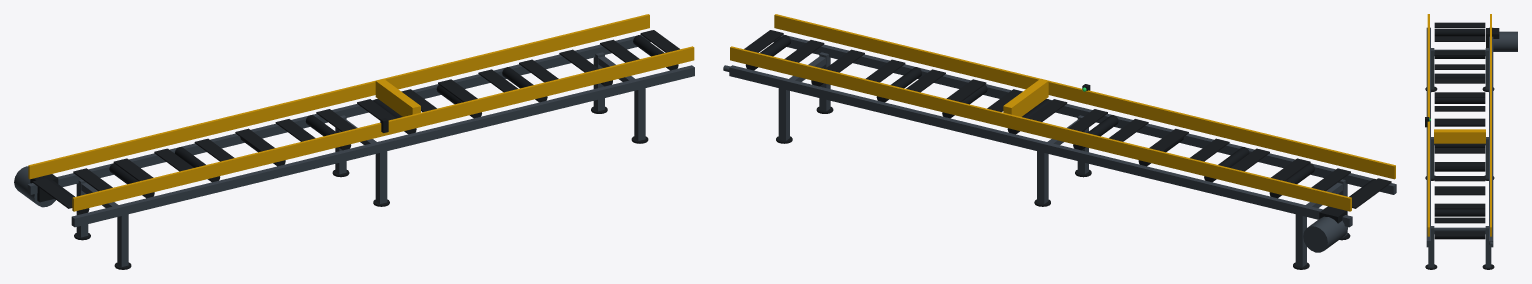
3 renders of one model, left to right at view 1: azimuth 30°, elevation 25°; view 2: azimuth 150°, elevation 25°; view 3: azimuth 270°, elevation 25°, orthographic. The views are drawn at different scales.
Parts seen in each view (by area): view 1: guard:rail:0.37, guard:rail:-0.37, frame:rail:0.37, frame:rail:-0.37, stop:robot-side, leg:0:0.34, leg:-2.5:0.34, leg:2.5:0.34, motor:body, belt:segment:0, belt:segment:4, belt:segment:6 (+11 smaller); view 2: guard:rail:-0.37, guard:rail:0.37, frame:rail:-0.37, frame:rail:0.37, motor:body, stop:robot-side, leg:2.5:-0.34, leg:0:-0.34, leg:-2.5:-0.34, belt:segment:0, belt:segment:14, belt:segment:15 (+12 smaller); view 3: stop:robot-side, frame:rail:0.37, guard:rail:0.37, frame:rail:-0.37, motor:body, roller:0, guard:rail:-0.37, roller:8, roller:3, belt:segment:12, belt:segment:13, belt:segment:14 (+28 smaller).
Part boxes in pixels (x1,y1,x2,y2): guard:rail:0.37: [72, 46, 694, 211]; guard:rail:-0.37: [28, 14, 649, 179]; frame:rail:0.37: [71, 65, 694, 227]; frame:rail:-0.37: [27, 34, 650, 194]; stop:robot-side: [375, 79, 420, 116]; leg:0:0.34: [375, 151, 387, 203]; leg:-2.5:0.34: [117, 214, 128, 267]; leg:2.5:0.34: [634, 88, 645, 140]; motor:body: [14, 166, 55, 207]; belt:segment:0: [32, 178, 72, 208]; belt:segment:4: [194, 138, 234, 161]; belt:segment:6: [275, 119, 315, 141]; guard:rail:-0.37: [730, 46, 1351, 211]; guard:rail:0.37: [774, 14, 1395, 179]; frame:rail:-0.37: [729, 65, 1352, 227]; frame:rail:0.37: [773, 34, 1396, 194]; motor:body: [1303, 216, 1348, 252]; stop:robot-side: [1003, 79, 1048, 116]; leg:2.5:-0.34: [778, 88, 789, 140]; leg:0:-0.34: [1037, 151, 1048, 203]; leg:-2.5:-0.34: [1295, 214, 1306, 267]; belt:segment:0: [1352, 178, 1391, 208]; belt:segment:14: [784, 40, 824, 62]; belt:segment:15: [744, 30, 783, 52]; stop:robot-side: [1434, 129, 1485, 143]; frame:rail:0.37: [1426, 27, 1430, 247]; guard:rail:0.37: [1427, 14, 1429, 236]; frame:rail:-0.37: [1489, 27, 1493, 247]; motor:body: [1493, 31, 1517, 51]; roller:0: [1434, 28, 1485, 36]; guard:rail:-0.37: [1490, 14, 1491, 236]; roller:8: [1434, 209, 1485, 216]; roller:3: [1434, 97, 1485, 103]; belt:segment:12: [1434, 189, 1485, 195]; belt:segment:13: [1434, 203, 1485, 209]; belt:segment:14: [1434, 217, 1485, 223].
Size of the model in its own units: 6.06 by 0.795 by 1.11.
